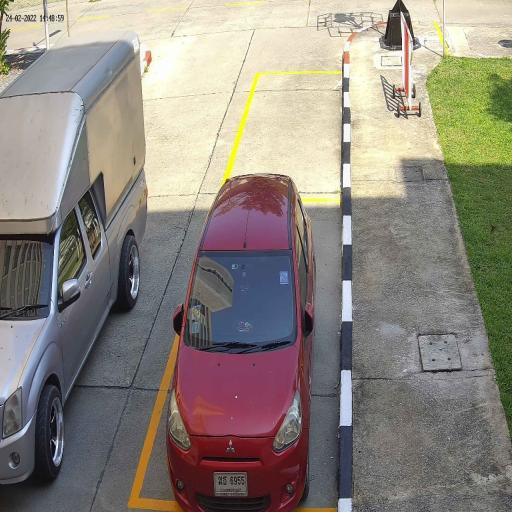car: (0, 37, 147, 486), (167, 172, 315, 511)
